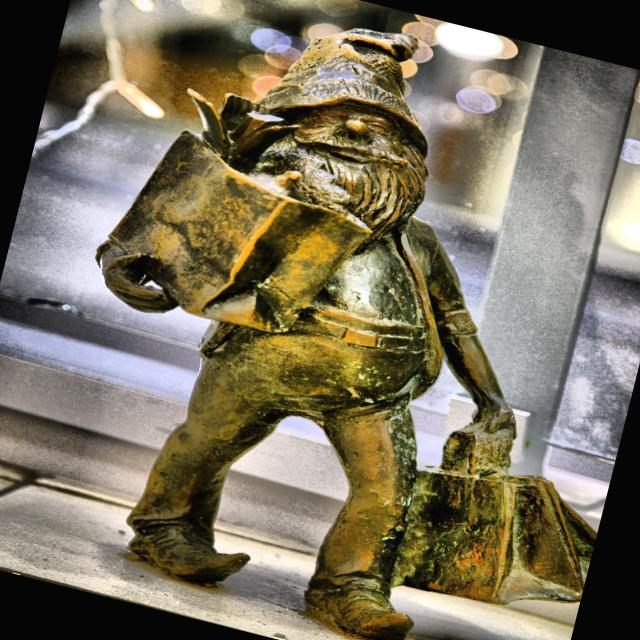Trendus: (94, 29, 597, 640)
